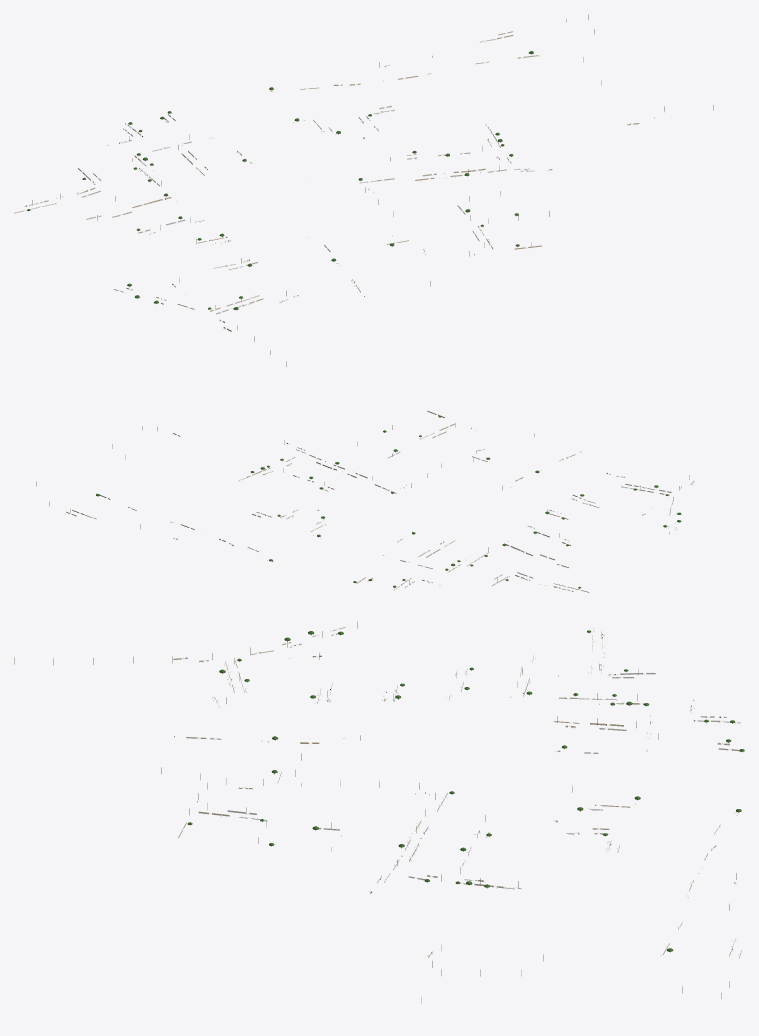
File: nd_stm_m7_m2.glb
The picture shows the model from 3 angles, top to bottom: view 1: azimuth 30°, elevation 25°; view 2: azimuth 150°, elevation 25°; view 3: azimuth 270°, elevation 25°; orthographic projection. The views are drawn at different scales.
Visible parts, largest first — view 1: nd_stm_m7_m2_lod0; view 2: nd_stm_m7_m2_lod0; view 3: nd_stm_m7_m2_lod0.
Boxes of the visible parts, box(x1,y1,x2,y2) form: nd_stm_m7_m2_lod0: box(14, 14, 713, 366); nd_stm_m7_m2_lod0: box(36, 410, 695, 592); nd_stm_m7_m2_lod0: box(14, 621, 744, 1003).
Size of what is drawn, in the model's own units: 991 by 27.31 by 774.
